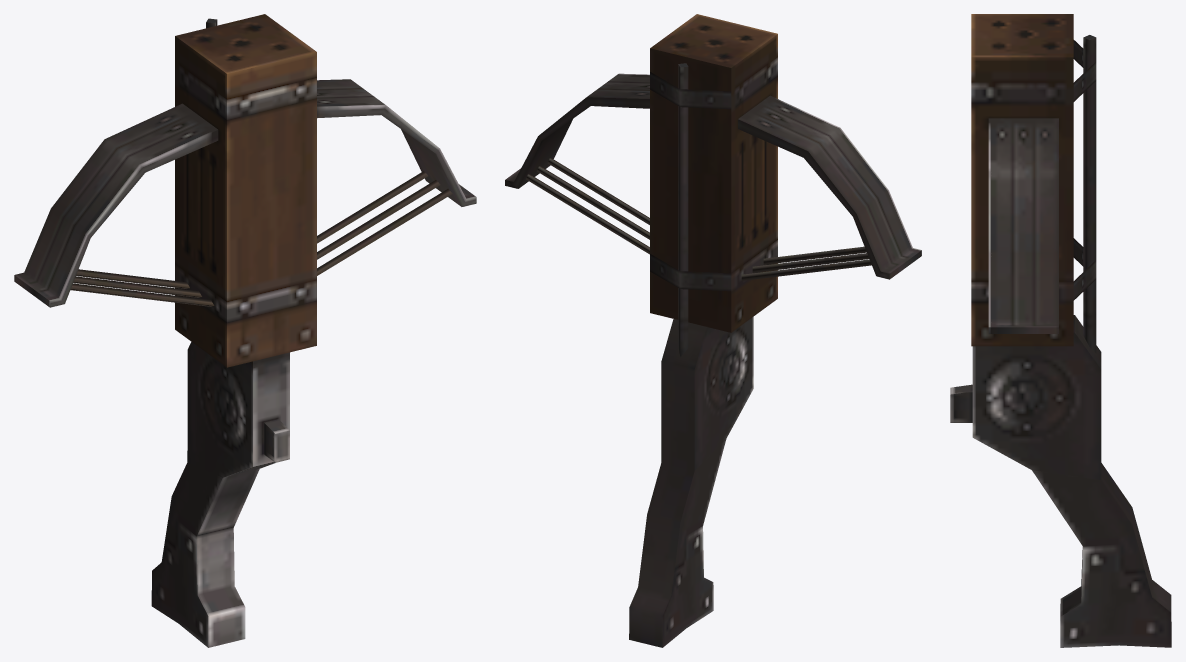
Rendered from crossbow19_3dea4d1e.glb.
3 renders of one model, left to right at view 1: azimuth 30°, elevation 25°; view 2: azimuth 150°, elevation 25°; view 3: azimuth 270°, elevation 25°, orthographic. The views are drawn at different scales.
Size of the model in its own units: 1.13 by 1.55 by 0.5157.
1 material, 1 textured.
